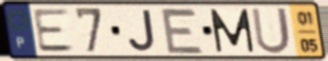7: (73, 6, 105, 55)
E: (158, 6, 206, 56), (31, 7, 77, 54)
J: (127, 8, 158, 53)
M: (208, 8, 257, 55)
U: (249, 6, 293, 56)
